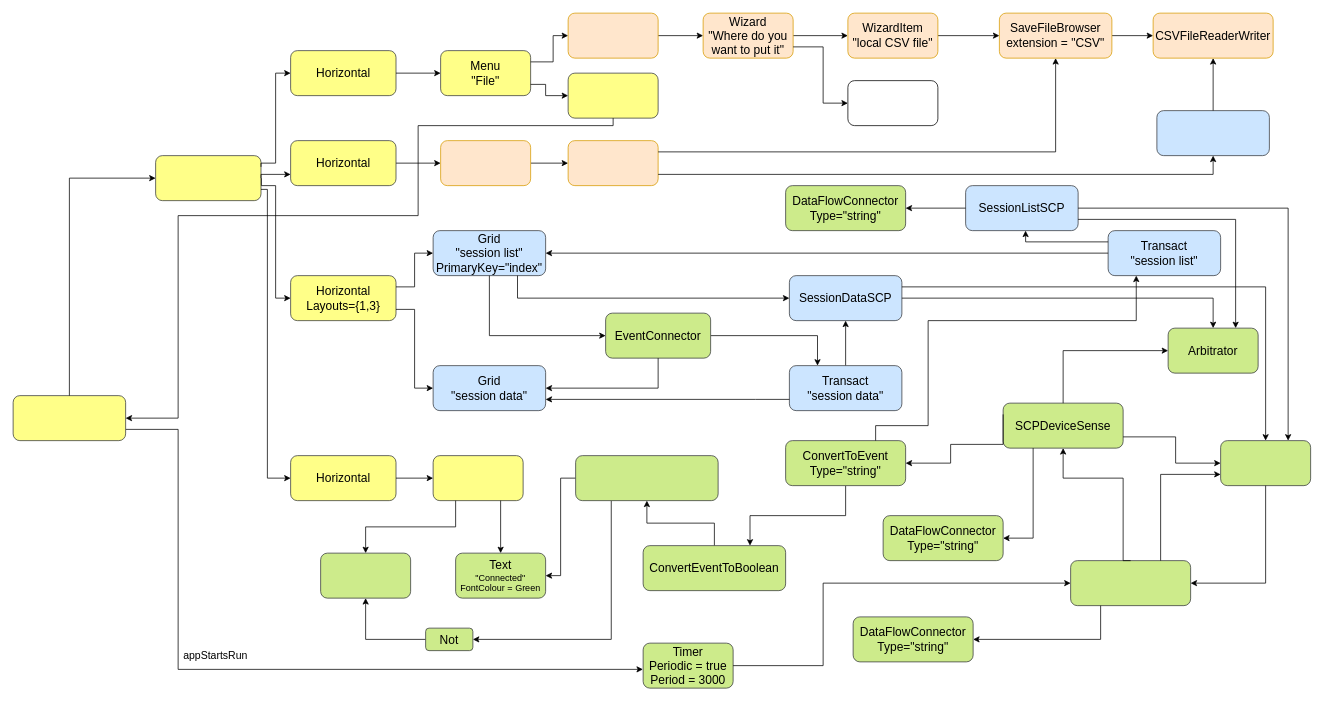
The diagram is 1324 pixels wide and 701 high, and some of its shapes have lost their labels. The centre of each missing label's shape, as x and y in pixels:
COMPortAdapter: point (1130, 583)
DataFlowConnector Type="bool": point (646, 478)
MainWindow Title="ALAExample": point (69, 418)
MenuItem "Exit": point (612, 95)
MenuItem "Import from device": point (612, 35)
SCPProtocol: point (1265, 463)
StatusBar: point (477, 478)
Text "Searching for a device" FontColour = Red: point (365, 575)
Toolbar: point (485, 163)
ToolItem Icon="Import.png": point (612, 163)
Transact "export to csv file": point (1212, 133)
Vertical Layouts={0,0,2,0}: point (208, 178)
WizardItem "Cloud": point (892, 103)
